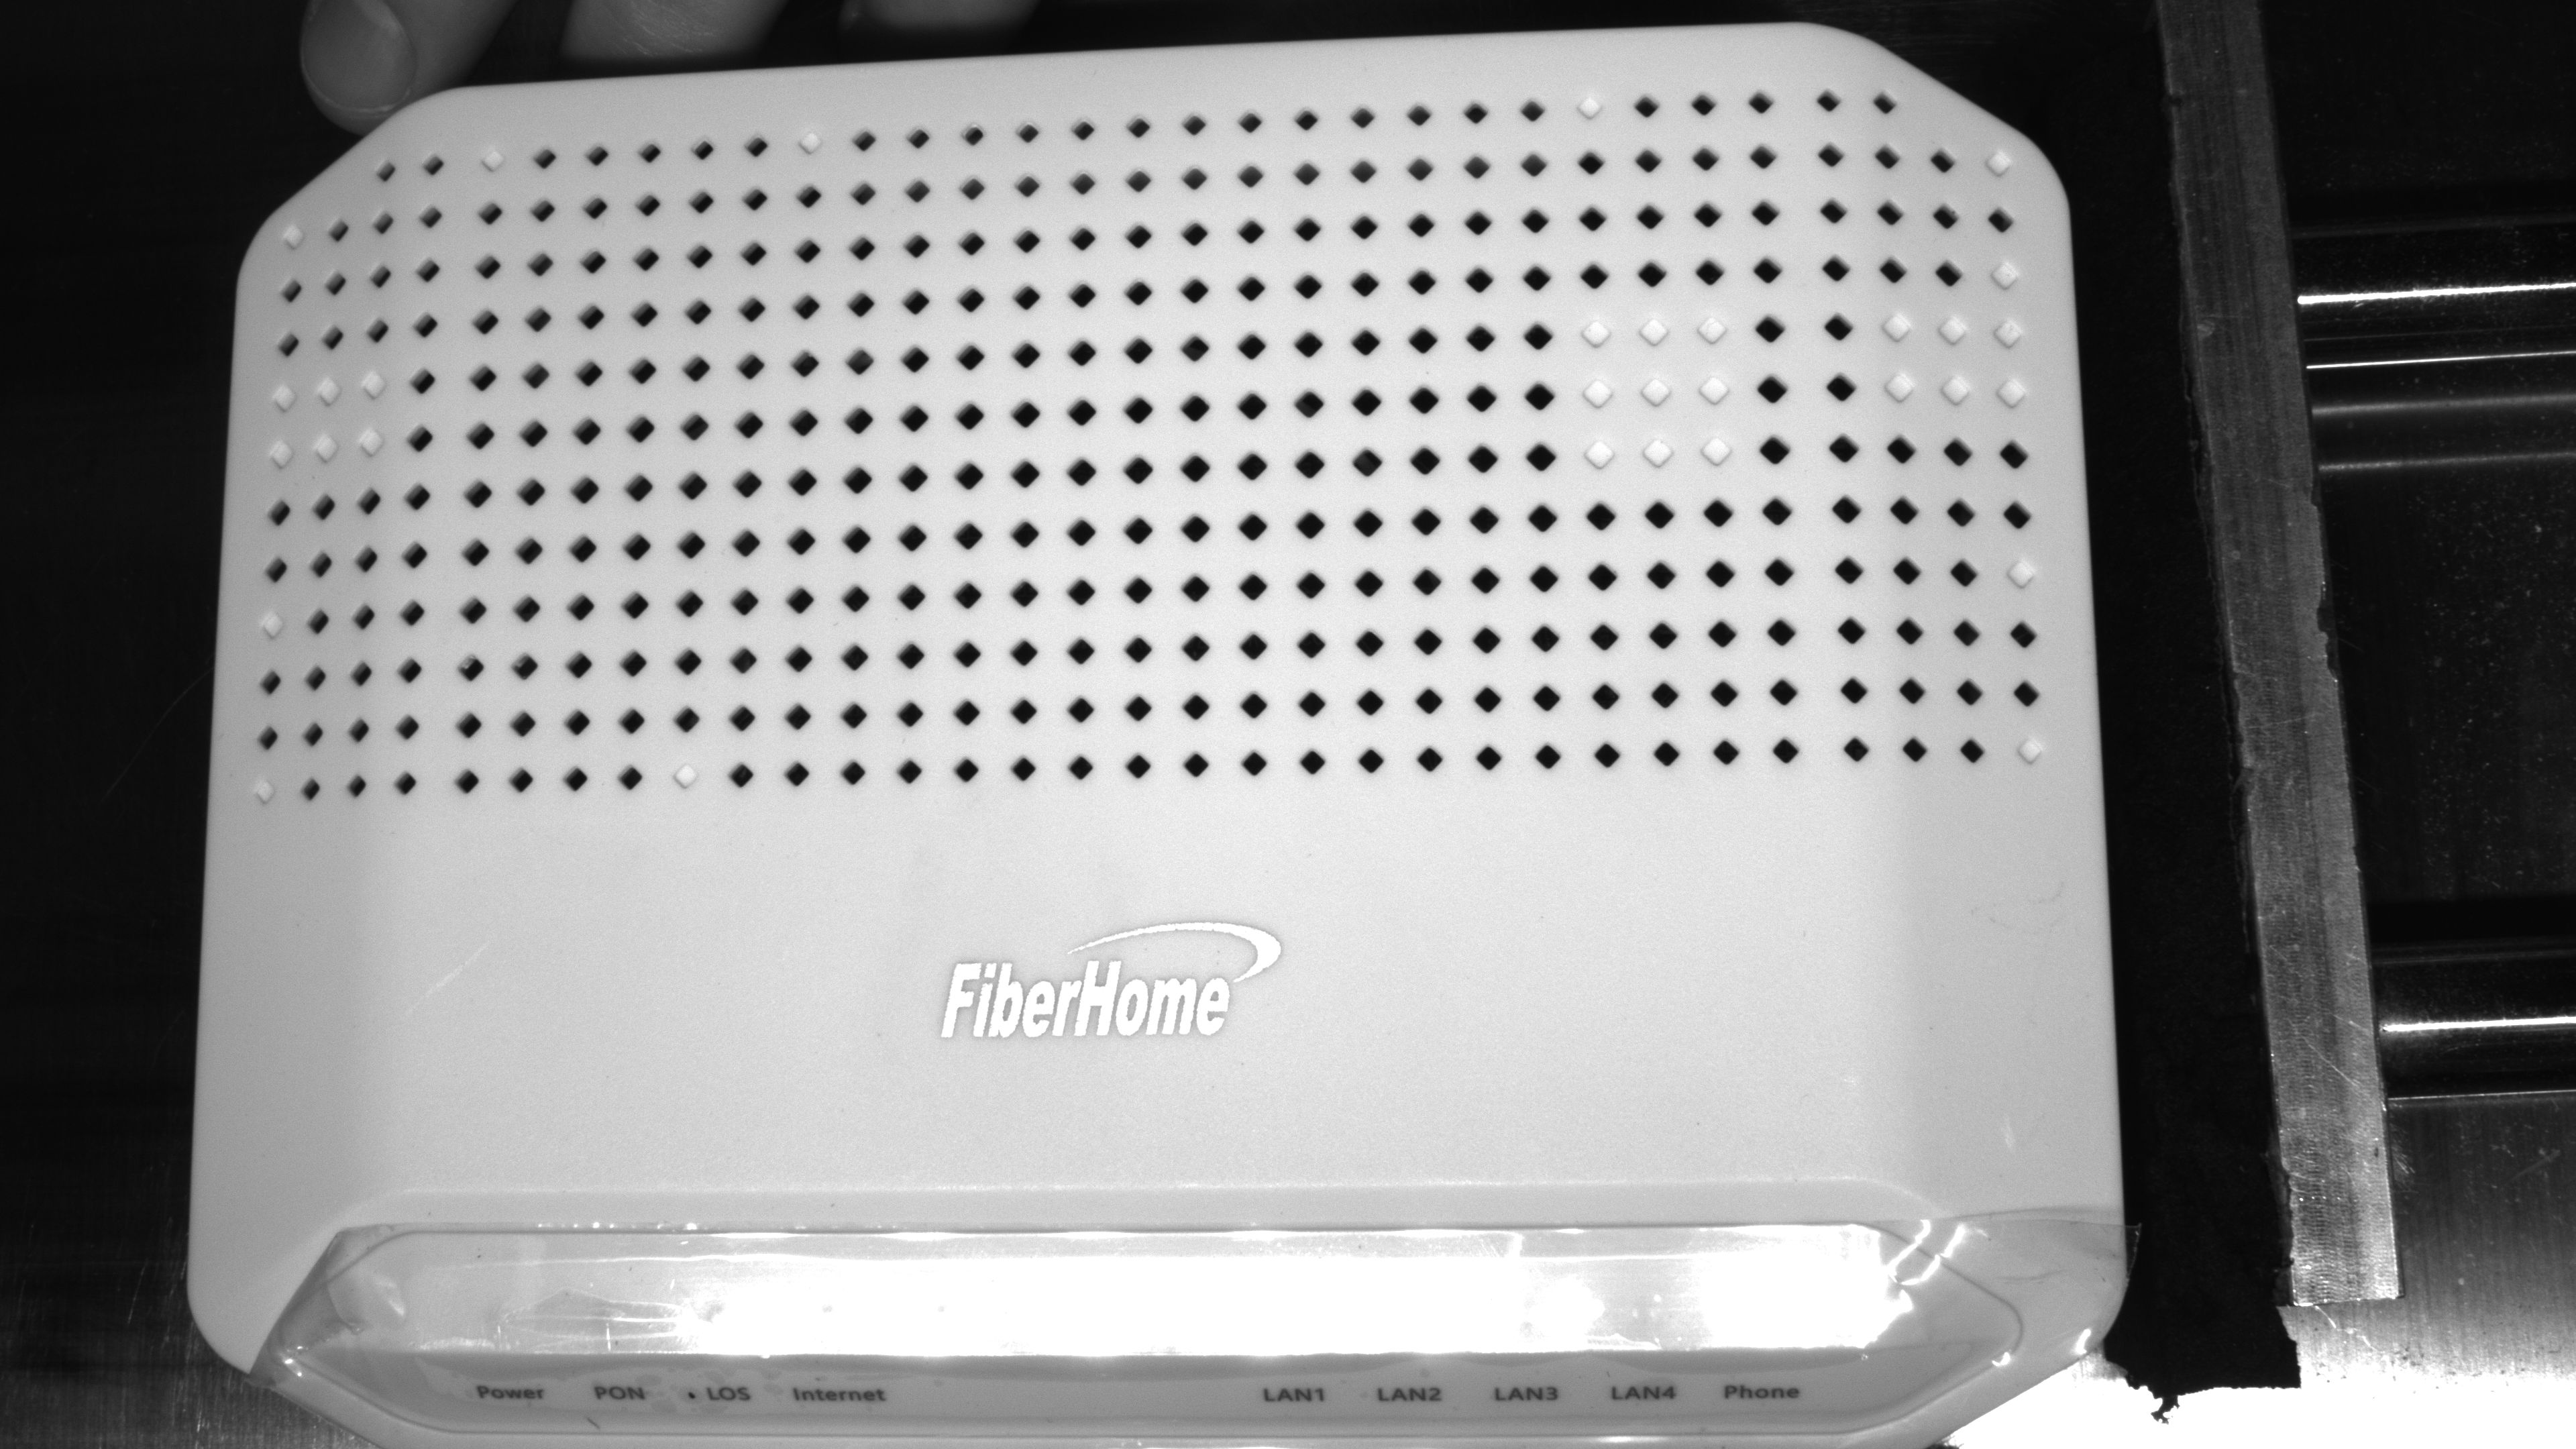AI_FiberHome: (862, 888, 1318, 1081)
